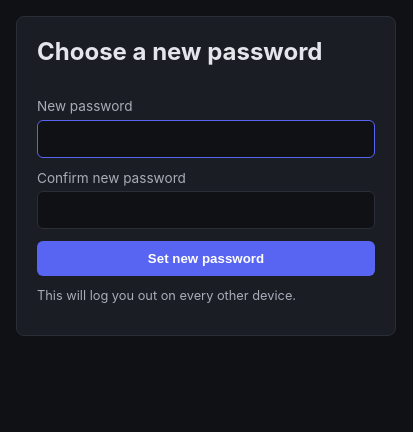
Test: choose a new password (from the email link) › sets the password and returns to log in with a confirmation
Type "newpassword1" into the password field labelled "New password". click: (206, 139)
box: x1=37 y1=120 x2=375 y2=158
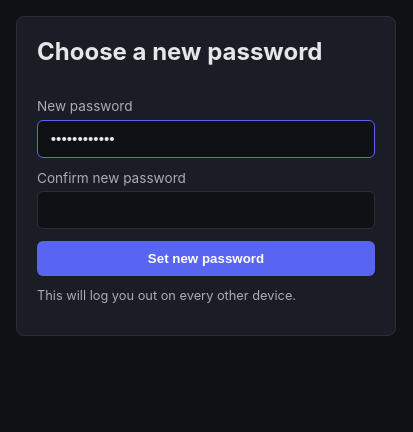
Type "newpassword1" into the password field labelled "Confirm new password". click: (206, 210)
box: x1=37 y1=191 x2=375 y2=230
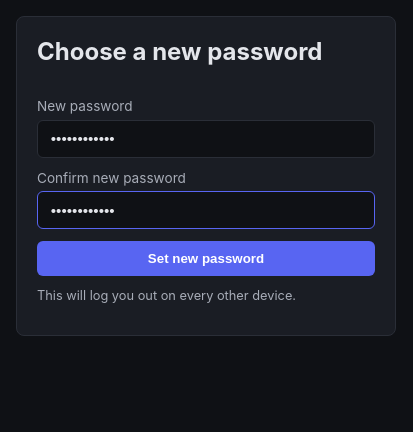
Click the button "Set new password". click: (206, 259)
box: x1=37 y1=242 x2=375 y2=276
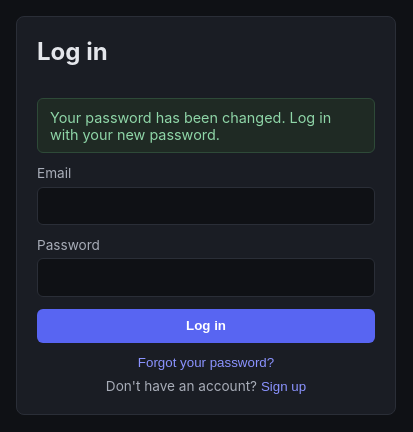
Check: the text "Your password has been changed" is shown, box x1=50 y1=108 x2=331 y2=142
Check: the heading "Log in" is shown, box x1=37 y1=37 x2=108 y2=66
